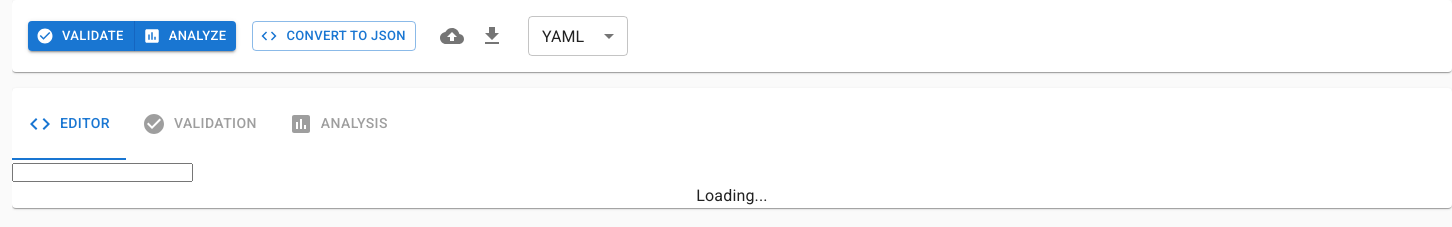
Test case: TMACEditor › Loading States › should show loading indicator during operations
Click the button "Validate" at x=81, y=36, box [28,21,135,51]
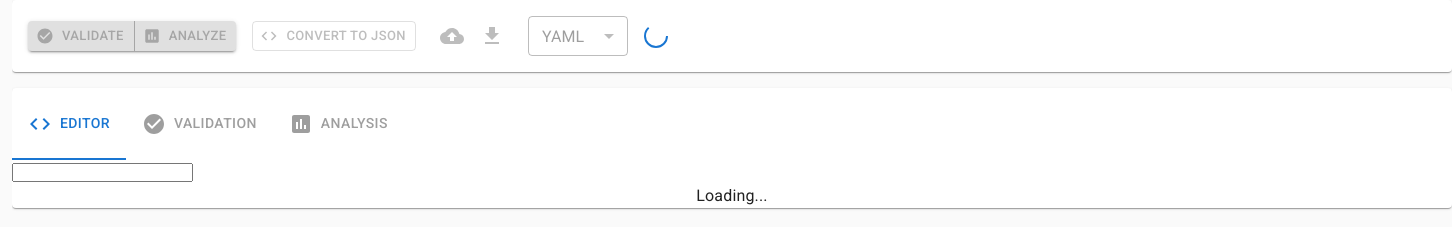
expect the progress indicator is shown: met, box [644,24,668,48]
